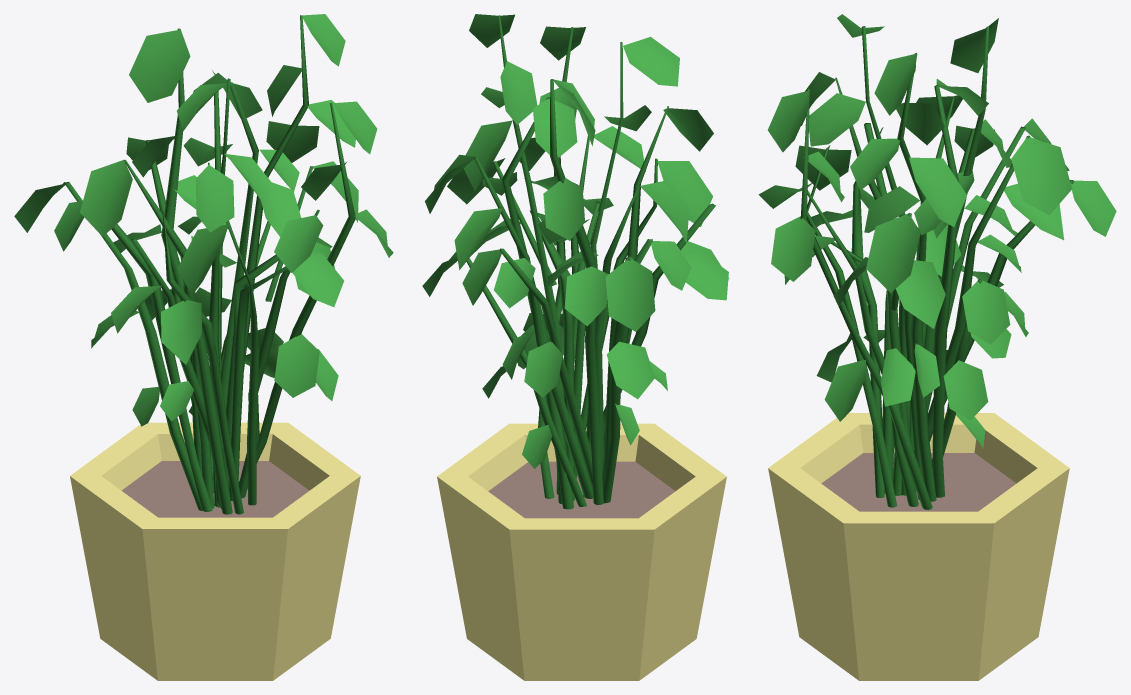
File: Plants_M15.fbx
3 views of the same model, side by side, from view 1: azimuth 30°, elevation 25°; view 2: azimuth 150°, elevation 25°; view 3: azimuth 270°, elevation 25° (orthographic). The views are drawn at different scales.
Visible parts, largest first — view 1: Plants_M15; view 2: Plants_M15; view 3: Plants_M15.
Boxes of the visible parts, x1=… form: Plants_M15: x1=14, y1=14, x2=393, y2=680; Plants_M15: x1=422, y1=14, x2=729, y2=680; Plants_M15: x1=758, y1=14, x2=1116, y2=680.
Bounding box in the file's own units: 0.1919 × 0.4 × 0.2073.
1 material, 1 textured.
